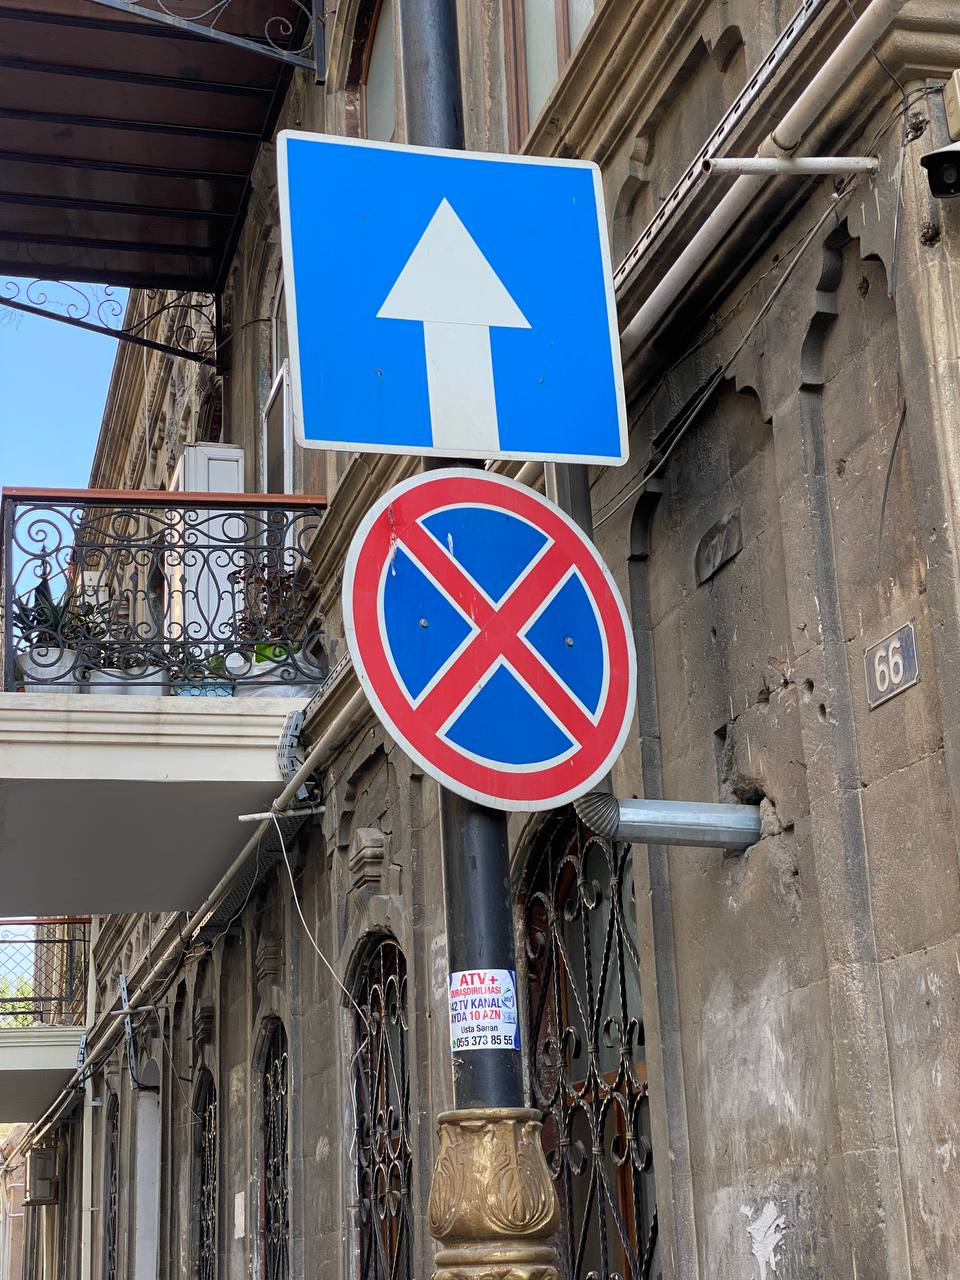No Parking: (342, 467, 639, 811)
